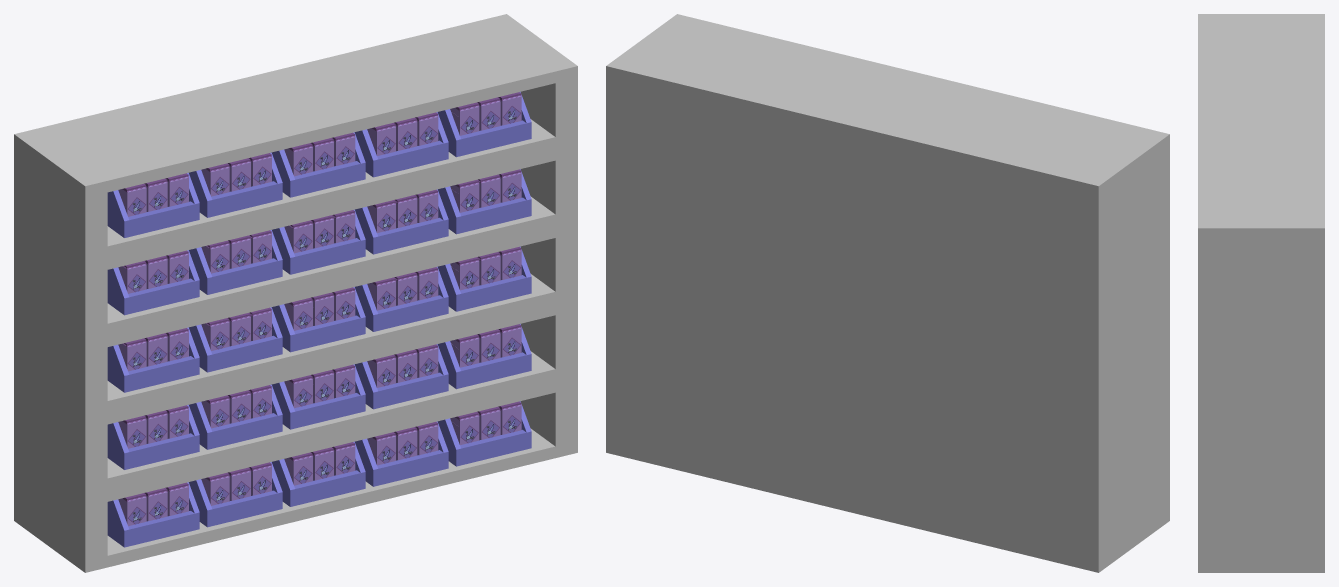
The model's file is Evelmart_Shelf_Wind (1).fbx.
The picture shows the model from 3 angles, left to right: view 1: azimuth 30°, elevation 25°; view 2: azimuth 150°, elevation 25°; view 3: azimuth 270°, elevation 25°; orthographic projection. The views are drawn at different scales.
Visible parts, largest first — view 1: Wind; view 2: Wind; view 3: Wind.
Part boxes in pixels (<box>): Wind: <box>14,14,577,572</box>; Wind: <box>606,14,1169,572</box>; Wind: <box>1198,14,1324,572</box>.
Bounding box in the file's own units: 805 × 604 × 201.
